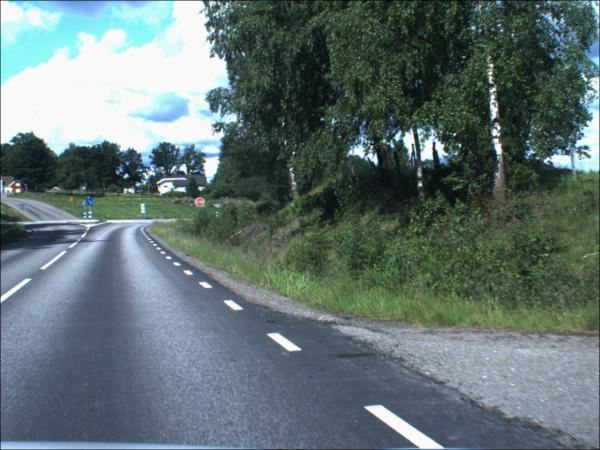PASS_RIGHT_SIDE: (88, 199, 96, 208)
STOP: (197, 199, 207, 209)
